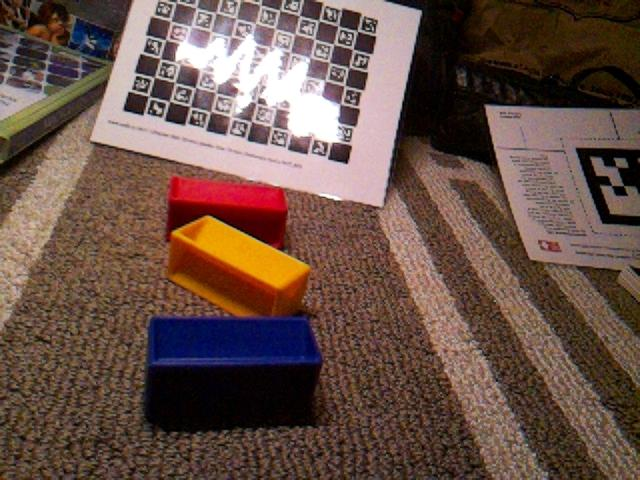blue: (143, 313, 324, 430)
red: (164, 174, 290, 250)
yellow: (166, 214, 312, 318)
